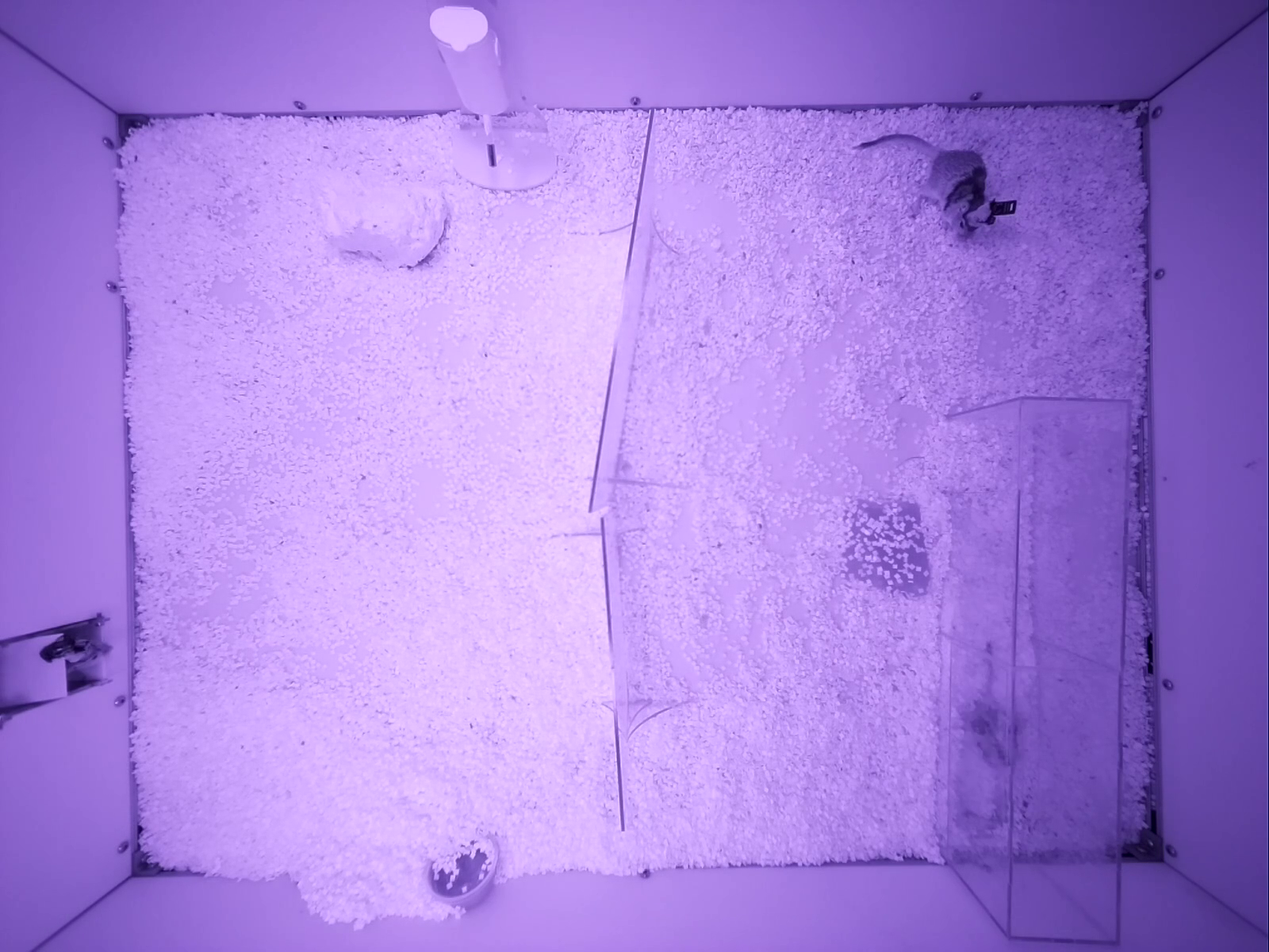adult_back: (855, 133, 1013, 237), (961, 645, 1018, 767)
